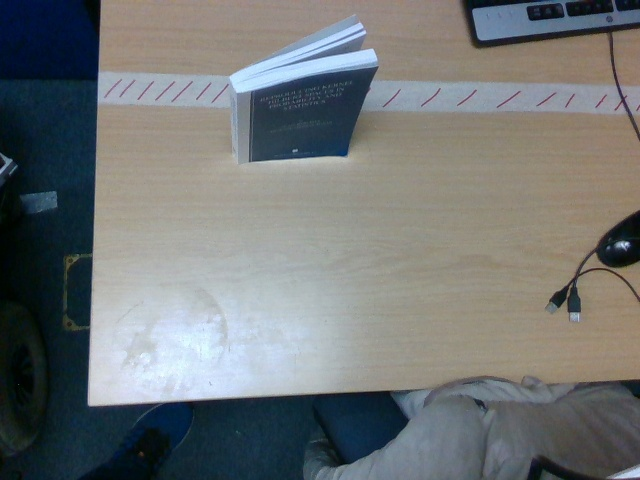book: (228, 14, 380, 161)
